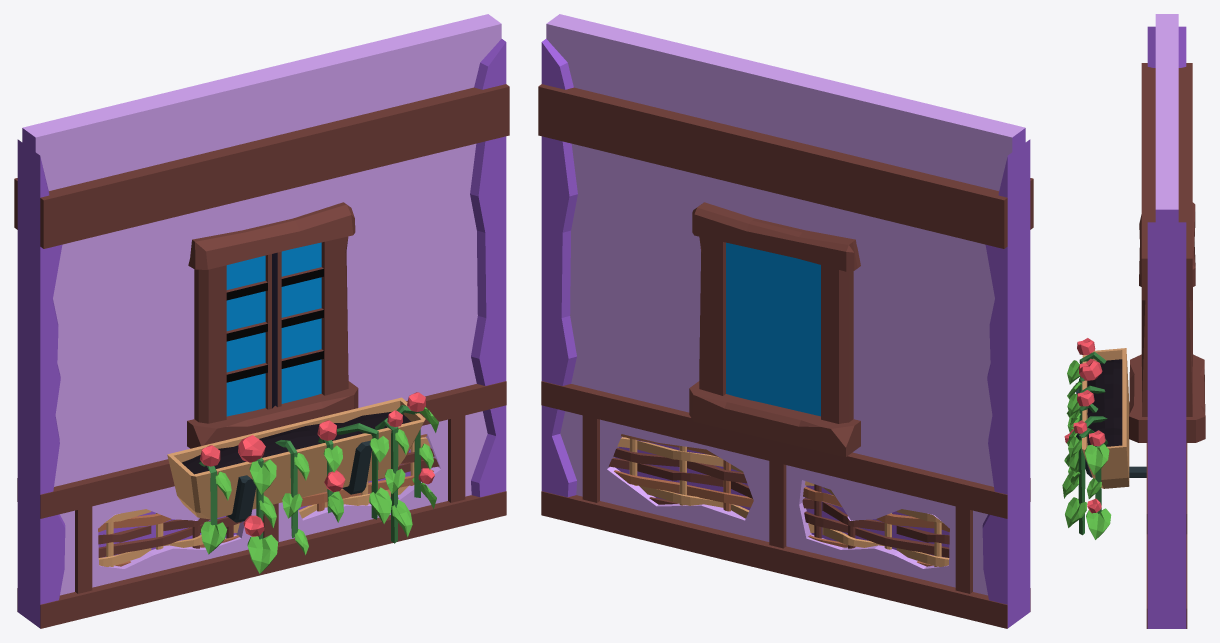
File: Modular Wall 07 MK2 W4.fbx
3 views of the same model, side by side, from view 1: azimuth 30°, elevation 25°; view 2: azimuth 150°, elevation 25°; view 3: azimuth 270°, elevation 25° (orthographic). The views are drawn at different scales.
Visible parts, largest first — view 1: Modular Wall 07 MK2 W4; view 2: Modular Wall 07 MK2 W4; view 3: Modular Wall 07 MK2 W4.
Boxes of the visible parts, x1,y1,x2,y2 form: Modular Wall 07 MK2 W4: (14,14,509,628); Modular Wall 07 MK2 W4: (538,14,1033,628); Modular Wall 07 MK2 W4: (1062,14,1205,628).
Bounding box in the file's own units: 400 × 400 × 124.
